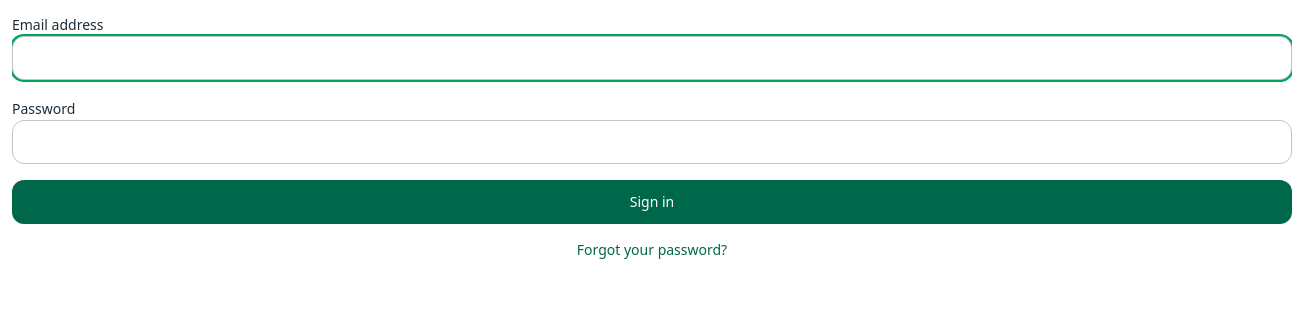
LoginForm › counts a lockout down in minutes instead of showing a bare failure
Type "a@b.co" into the field labelled "Email address".
click(652, 58); type("a@b.co")  # box top-left (12, 36), bottom-right (1292, 80)
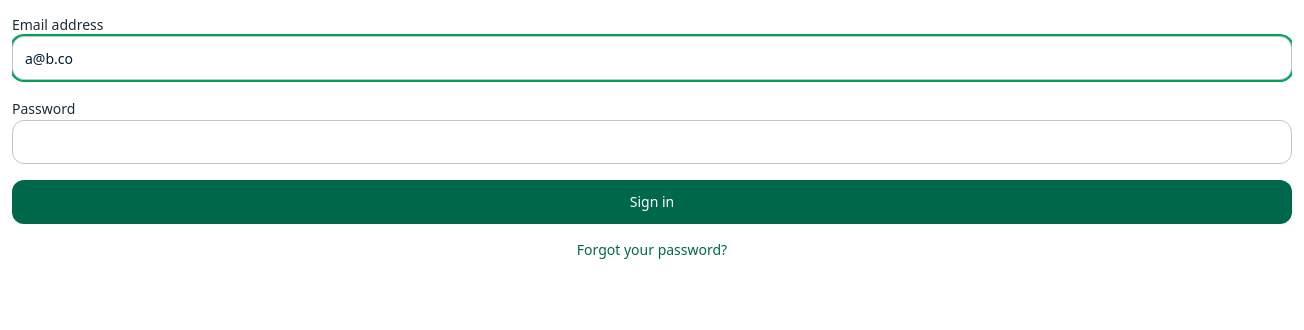
Type "wrong" into the password field labelled "Password".
click(652, 142); type("wrong")  # box top-left (12, 120), bottom-right (1292, 164)
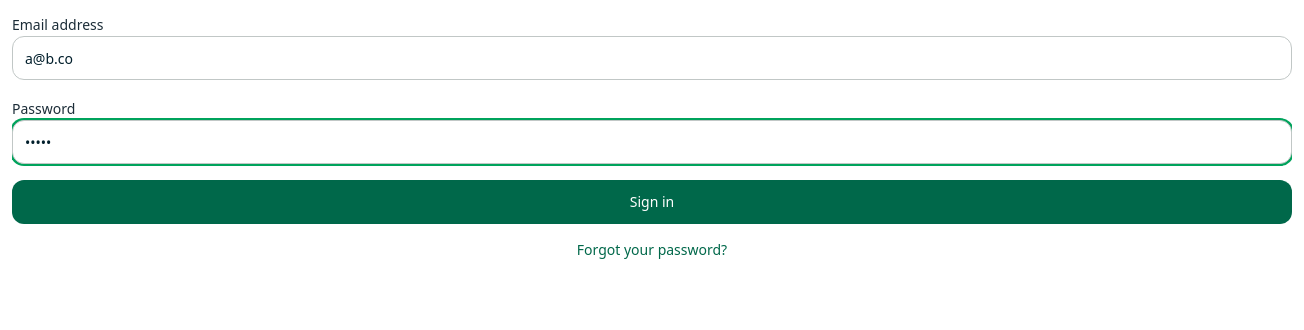
Click the button "Sign in".
click(652, 202)  # box top-left (12, 180), bottom-right (1292, 224)
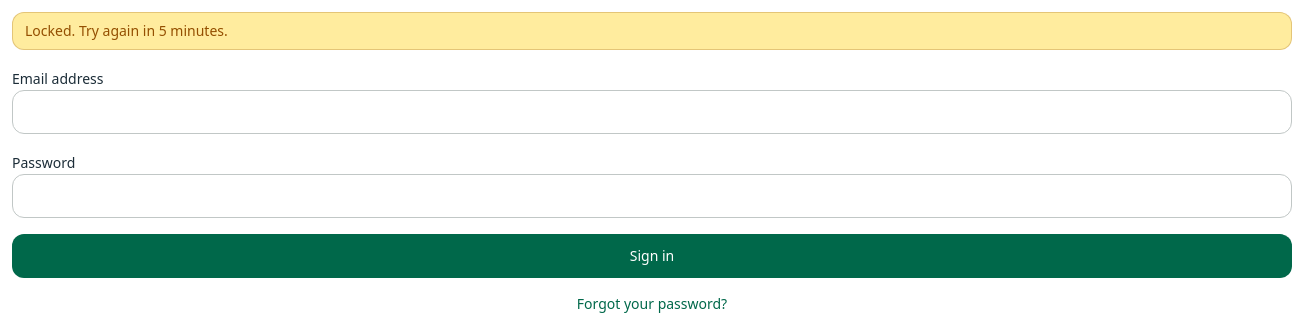
Expected: the message shows "Try again in 5 minutes.", top-left (12, 12), bottom-right (1292, 50)
